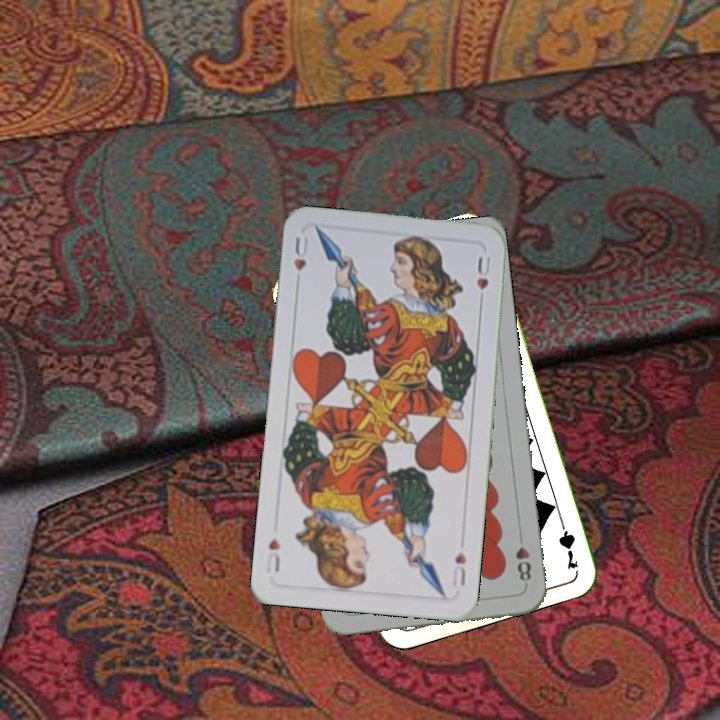G7: (554, 513, 581, 572)
H8: (511, 542, 534, 584)
HU: (289, 232, 311, 273), (448, 548, 468, 589)
